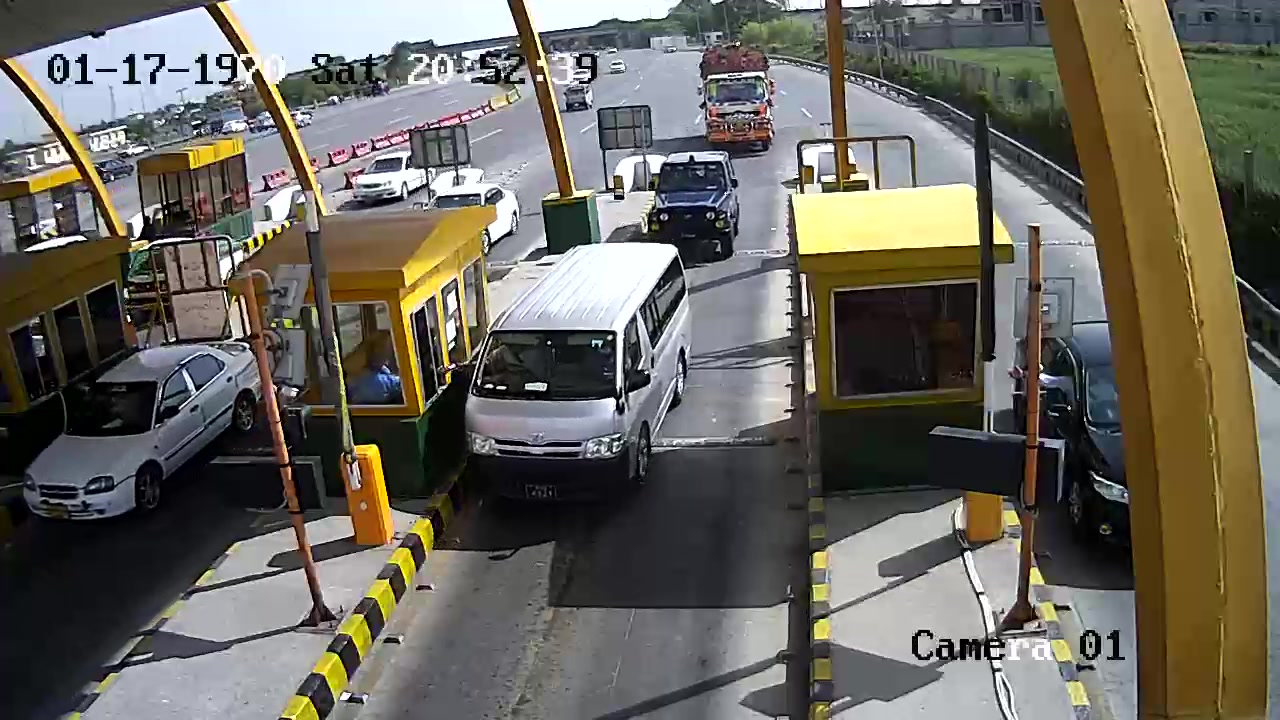F3: (454, 239, 692, 512)
